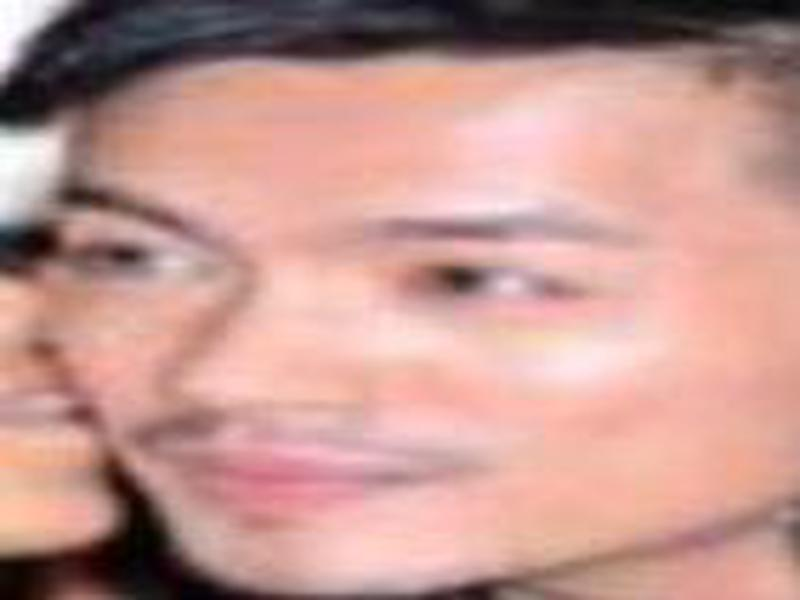without_mask: (57, 42, 795, 589)
